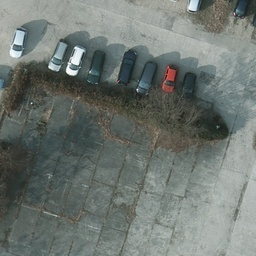car: (116, 49, 136, 84), (136, 58, 156, 93), (48, 37, 67, 71), (67, 44, 86, 78), (85, 49, 104, 83), (161, 62, 179, 92), (180, 73, 197, 101), (9, 28, 26, 56), (231, 1, 247, 19)
